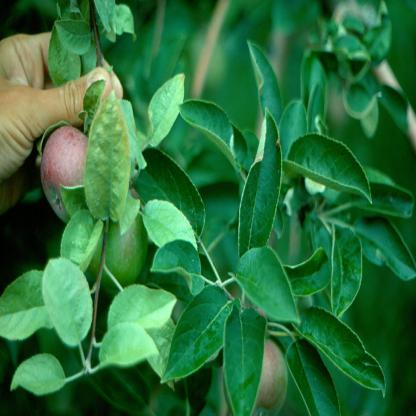apple leaf: (300, 305, 398, 401), (131, 142, 208, 253), (84, 76, 131, 244), (285, 124, 379, 206), (156, 283, 232, 381), (228, 251, 305, 339), (237, 115, 281, 265), (36, 249, 98, 354), (179, 91, 253, 178), (273, 332, 341, 415), (148, 64, 195, 170), (328, 216, 367, 319), (99, 319, 159, 385)
